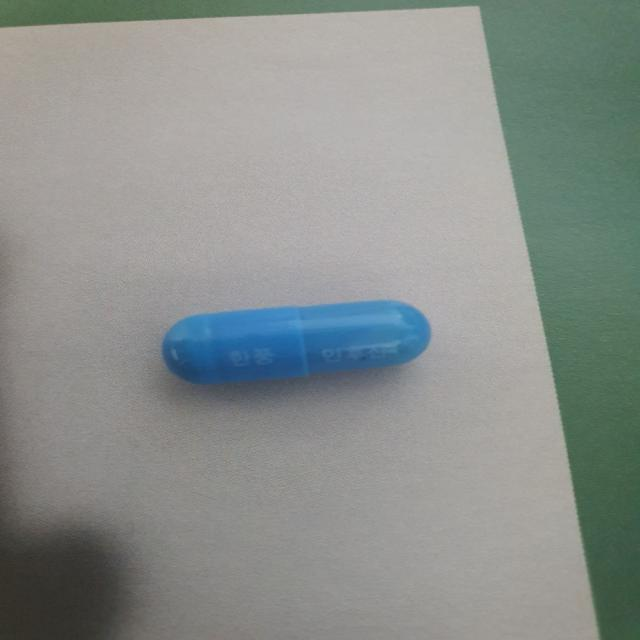pill: (133, 282, 452, 404)
